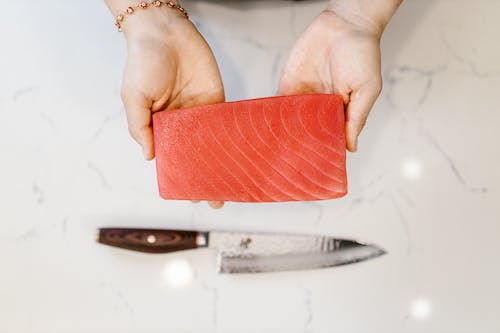knife: (93, 225, 390, 275)
